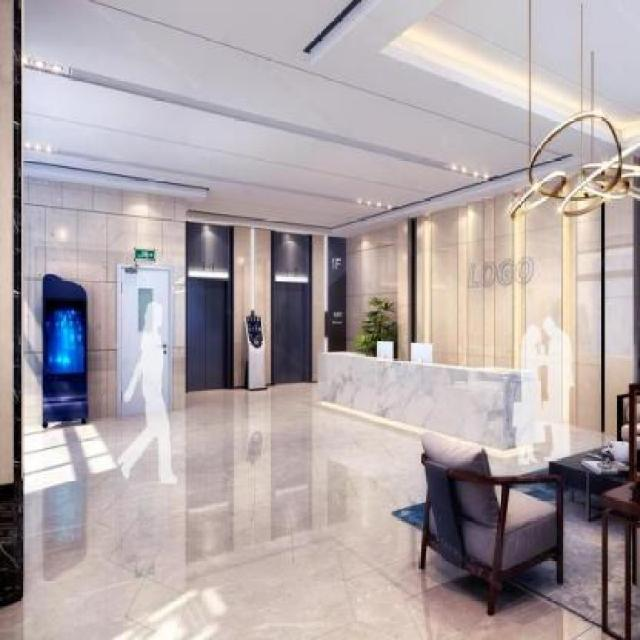frontdesk: (311, 337, 547, 455)
